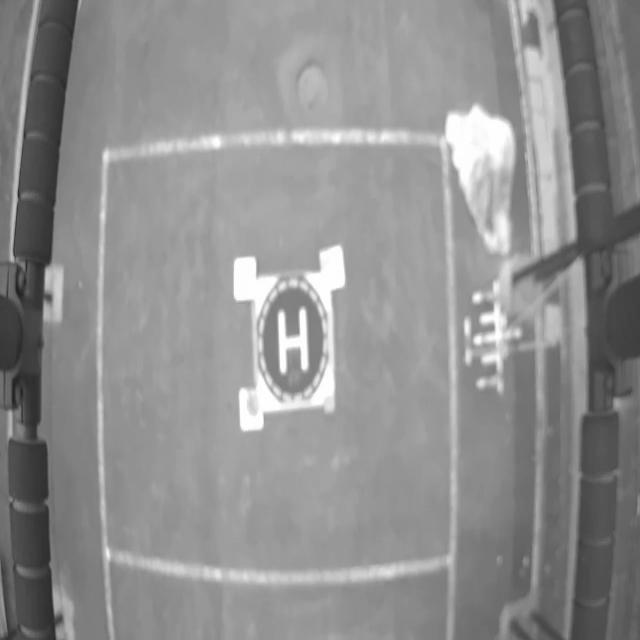Helipad: (278, 307, 310, 376)
